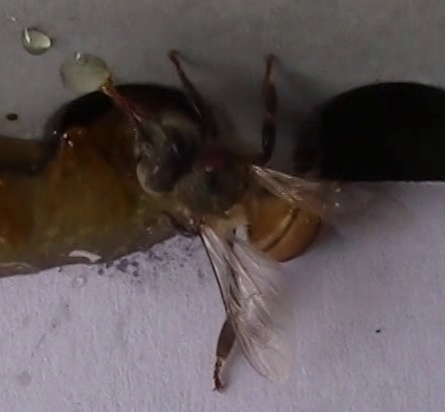Varroa destructor: (197, 143, 231, 171)
